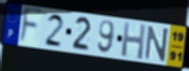2: (72, 16, 94, 54), (43, 13, 66, 49)
9: (97, 20, 116, 55)
F: (18, 6, 44, 46)
H: (120, 21, 147, 61)
N: (144, 25, 171, 63)
